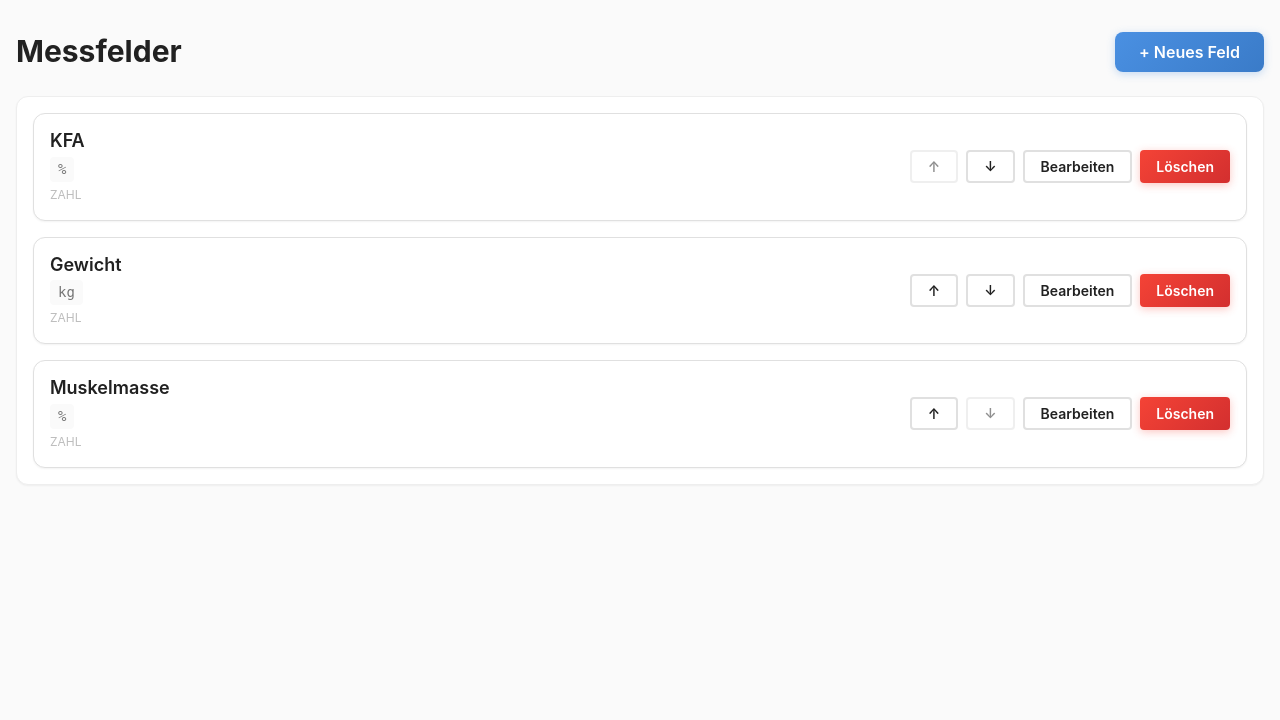
Test: FieldsPage Component › Delete Field - With Config Impact › should show multiple affected configs
The width and height of the screenshot is (1280, 720).
Click the 1st button "Löschen". click: (1185, 167)
box: [1140, 150, 1230, 183]
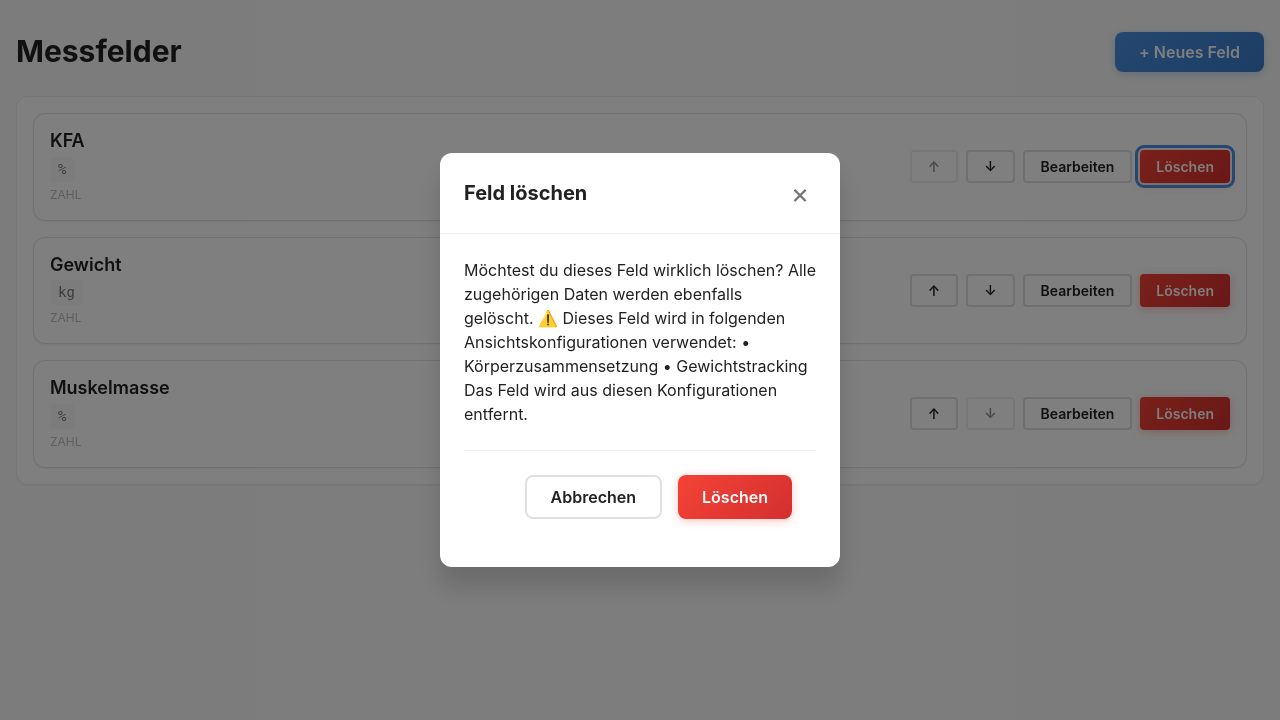
Expected: the heading "Feld löschen" is shown, [464, 180, 587, 206]
Expected: the text "• Gewichtstracking" is shown, [464, 260, 816, 424]
